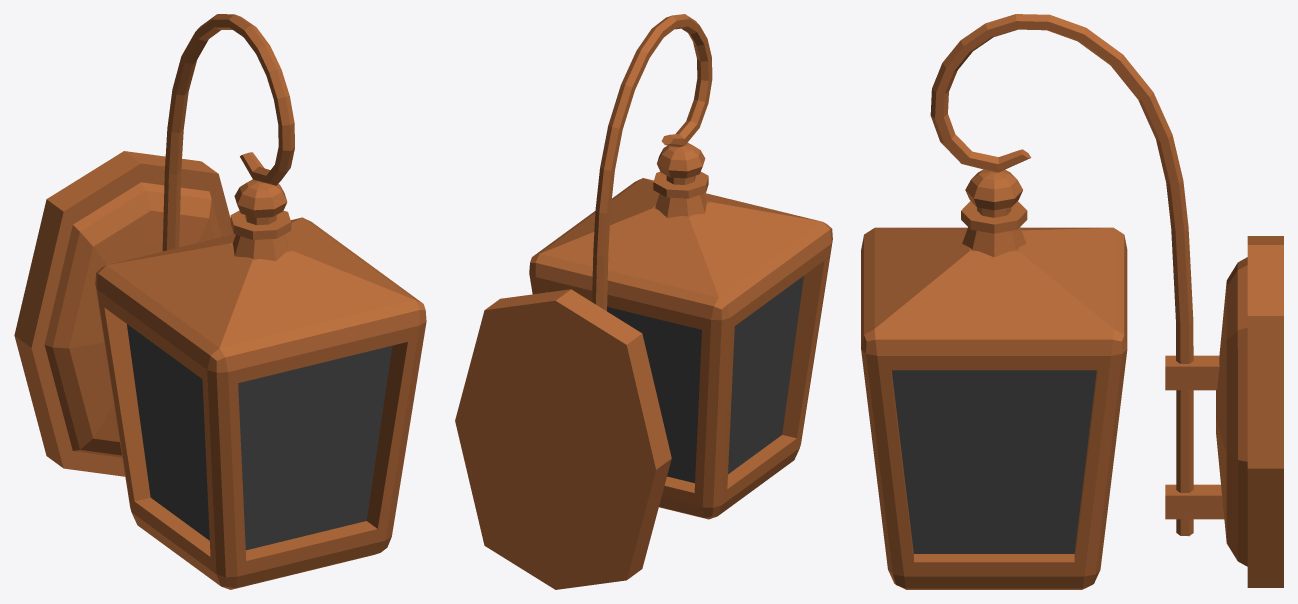
Rendered from P_Lamp_01.fbx.
3 renders of one model, left to right at view 1: azimuth 30°, elevation 25°; view 2: azimuth 150°, elevation 25°; view 3: azimuth 270°, elevation 25°, orthographic. The views are drawn at different scales.
Parts seen in each view (by area): view 1: P_Lamp_01; view 2: P_Lamp_01; view 3: P_Lamp_01.
Boxes of the visible parts, x1,y1,x2,y2 form: P_Lamp_01: (14, 14, 426, 589); P_Lamp_01: (455, 14, 832, 589); P_Lamp_01: (861, 14, 1283, 589).
Bounding box in the file's own units: 92.16 × 214 × 145.
